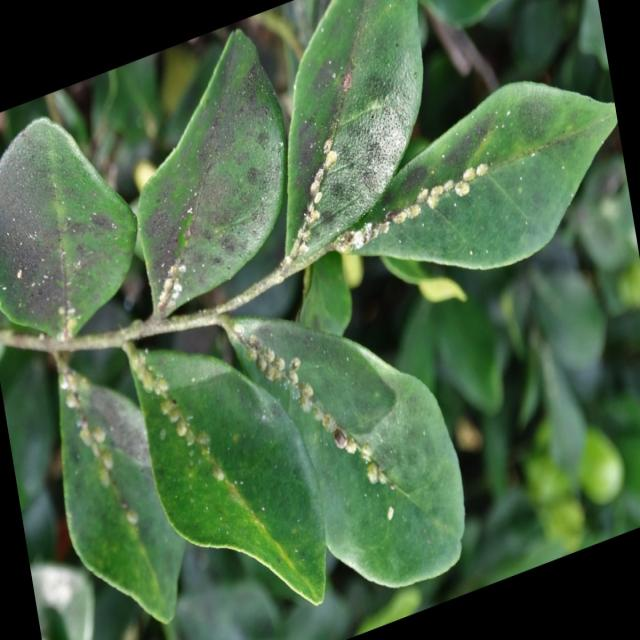Sooty Mold: (1, 2, 622, 628)
